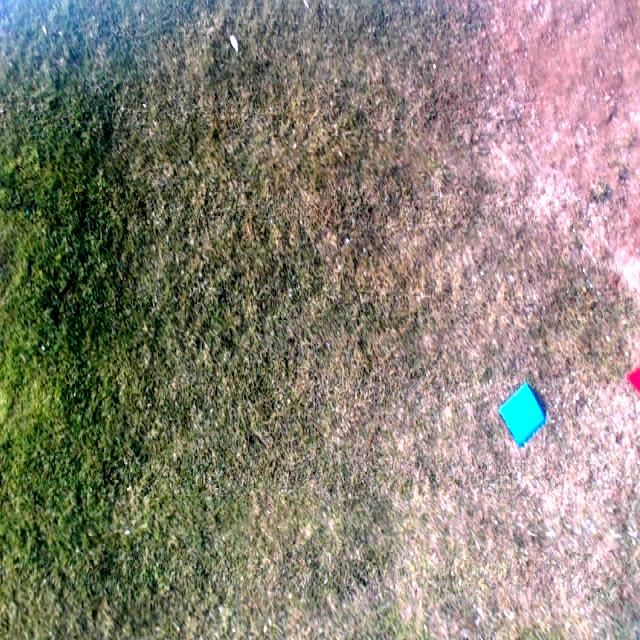blue_square: (499, 384, 547, 449)
